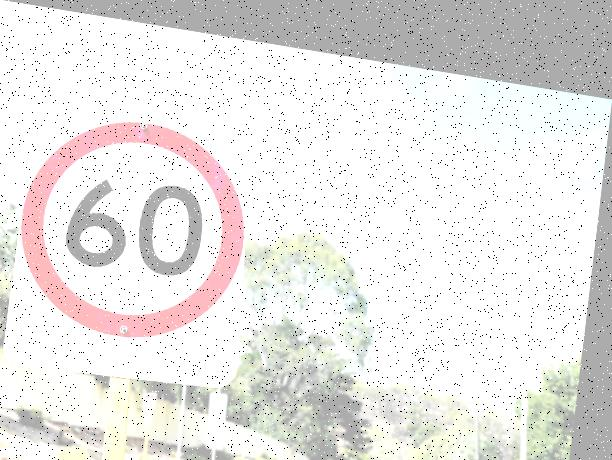Speed Limit -60-: (15, 98, 261, 348)
